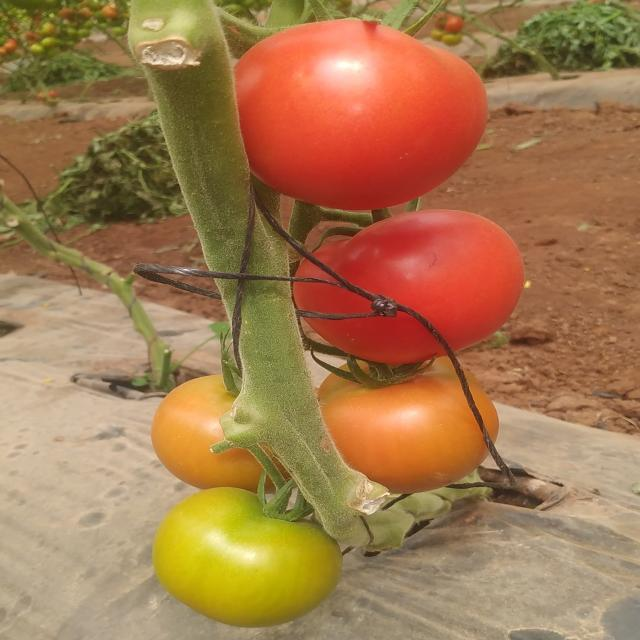Ripe Tomato: (231, 15, 482, 192), (299, 210, 512, 349), (320, 373, 498, 479)
Unripe Tomato: (150, 490, 347, 623), (158, 375, 280, 485)
